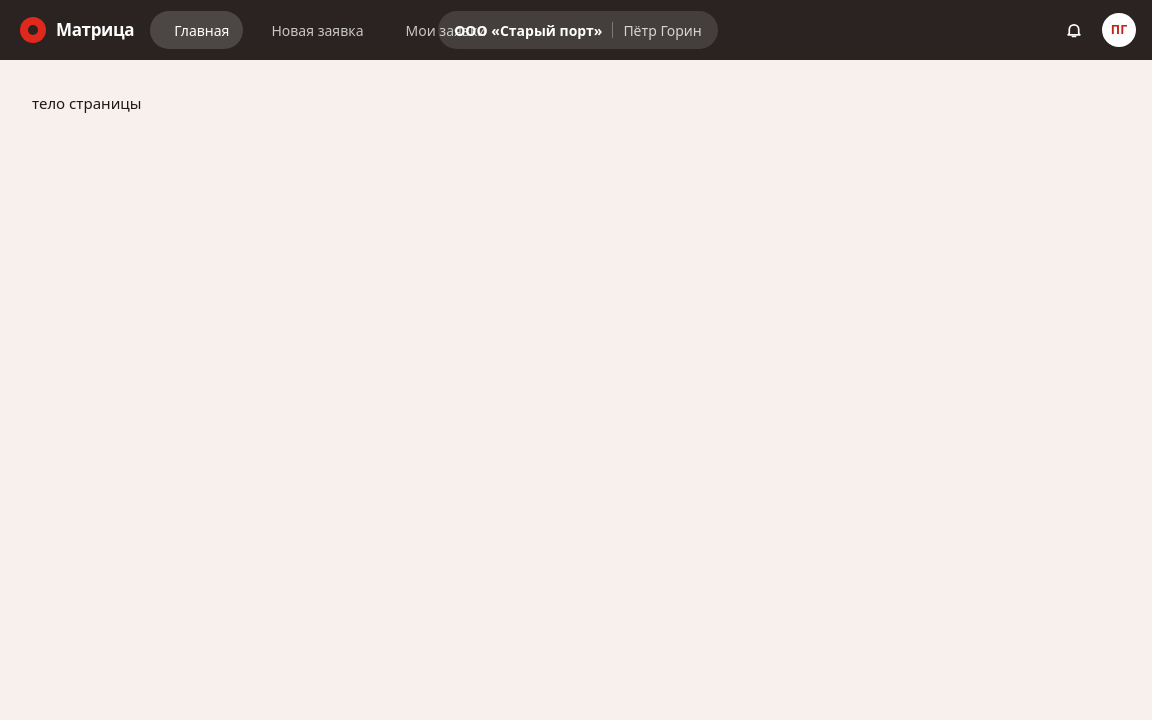
it: AppShell › says so when there is nothing new
The width and height of the screenshot is (1152, 720).
Click the button named "Уведомления": (1074, 30) x1=1054 y1=10 x2=1094 y2=50
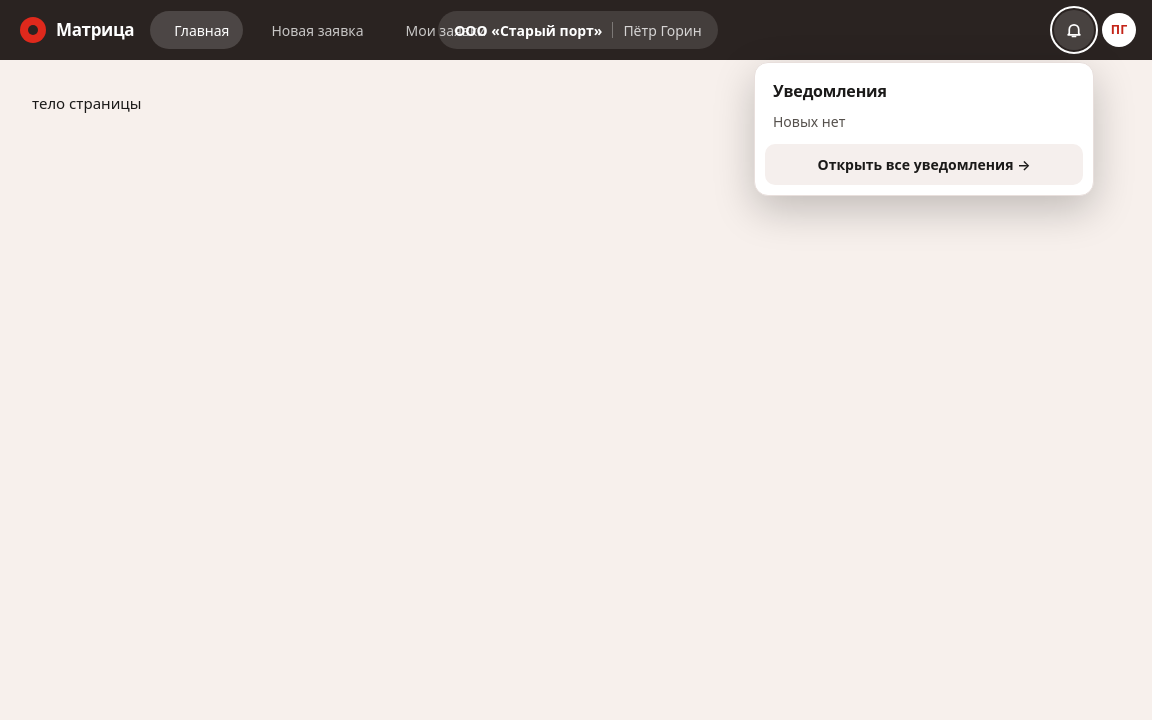
Result: the text "Новых нет" is shown at x1=773 y1=112 x2=845 y2=131
